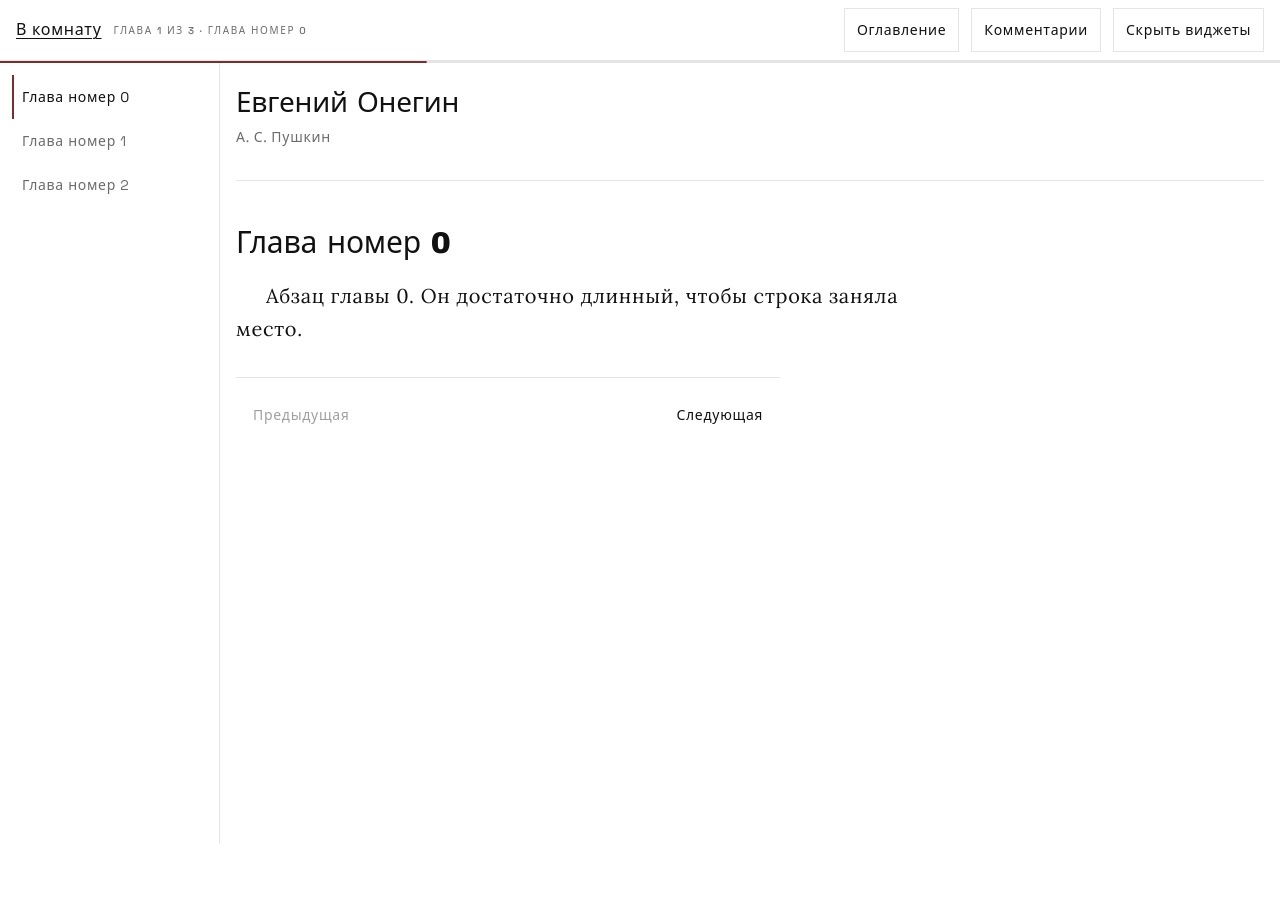
Test: загрузка комментариев читалкой › при переходе на главу маркер из неё появляется
This screenshot has width=1280, height=900.
Click the button "Оглавление". click: {"x": 902, "y": 30}
box: top-left (844, 8), bottom-right (959, 52)
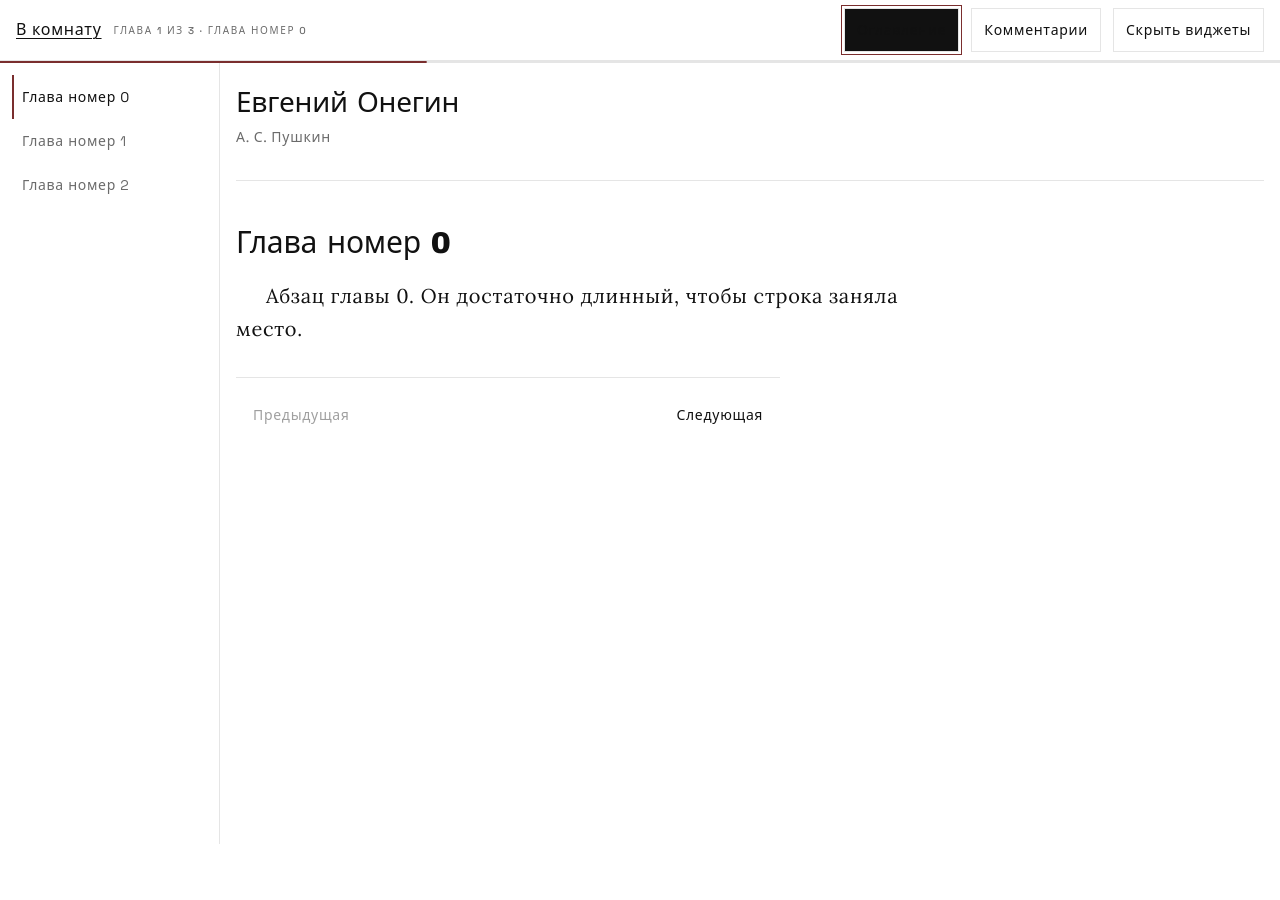
Click the button "Глава номер 1". click: {"x": 110, "y": 141}
box: top-left (12, 119), bottom-right (207, 163)
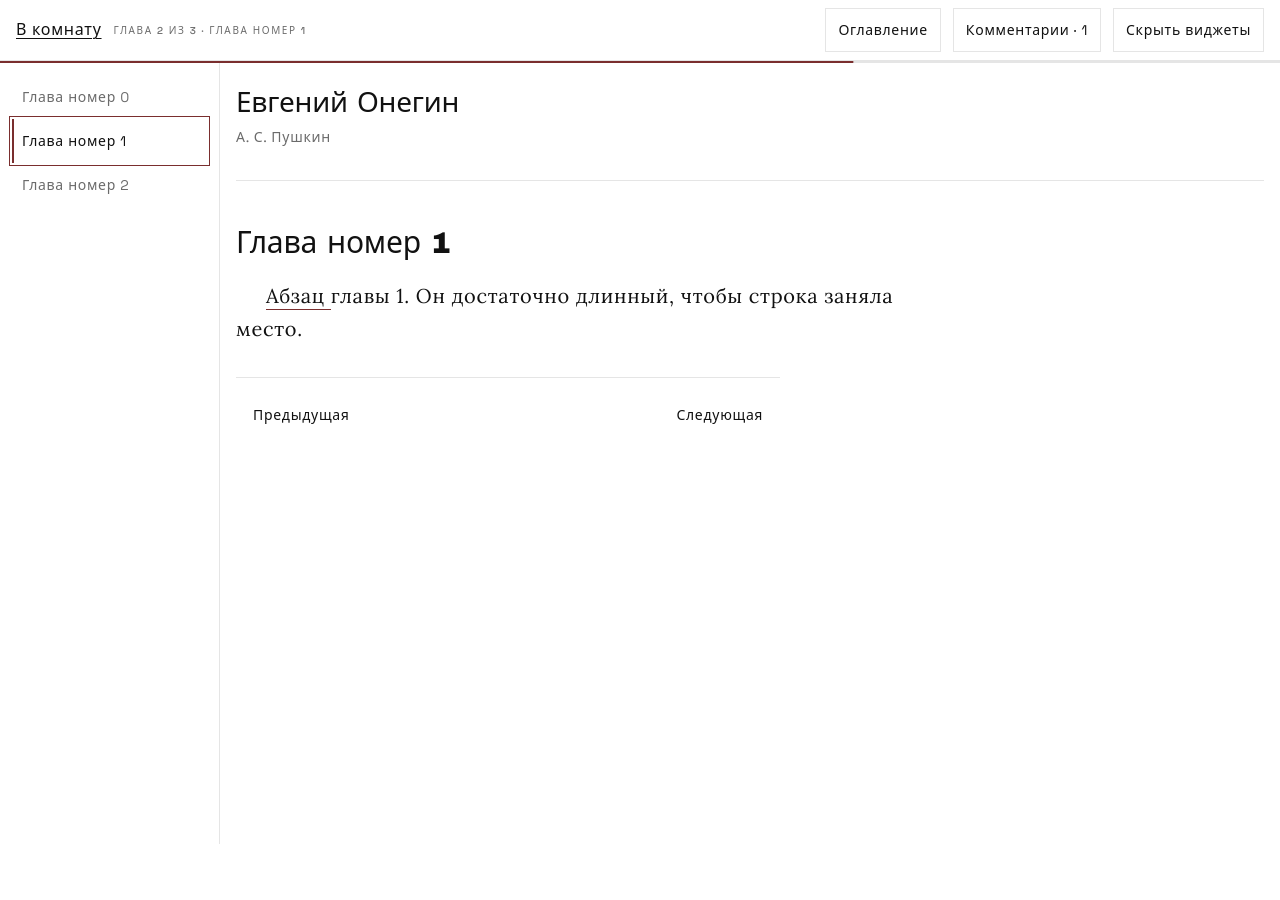
Expected: the element with class "rd-comment-marker" is shown, top-left (236, 279), bottom-right (916, 345)
Result: the number of elements with class "rd-comment-marker" is 1 at top-left (266, 283), bottom-right (331, 310)
